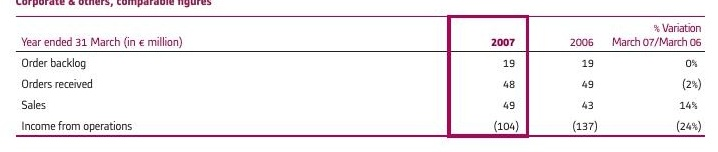table: (0, 0, 718, 152)
